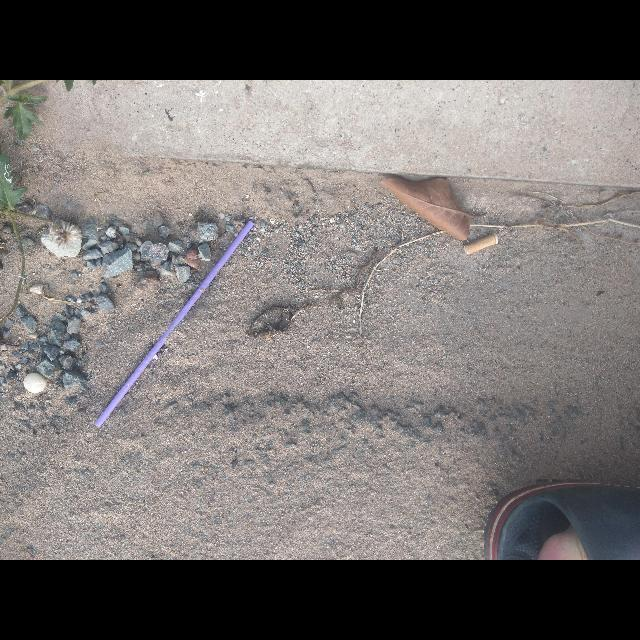Plastic: (94, 221, 254, 427)
